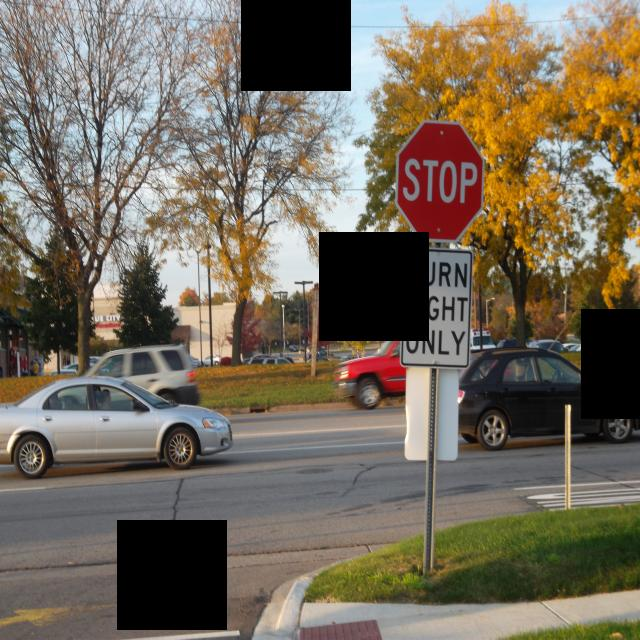regulatory: (396, 246, 479, 374)
stop: (393, 110, 490, 246)
